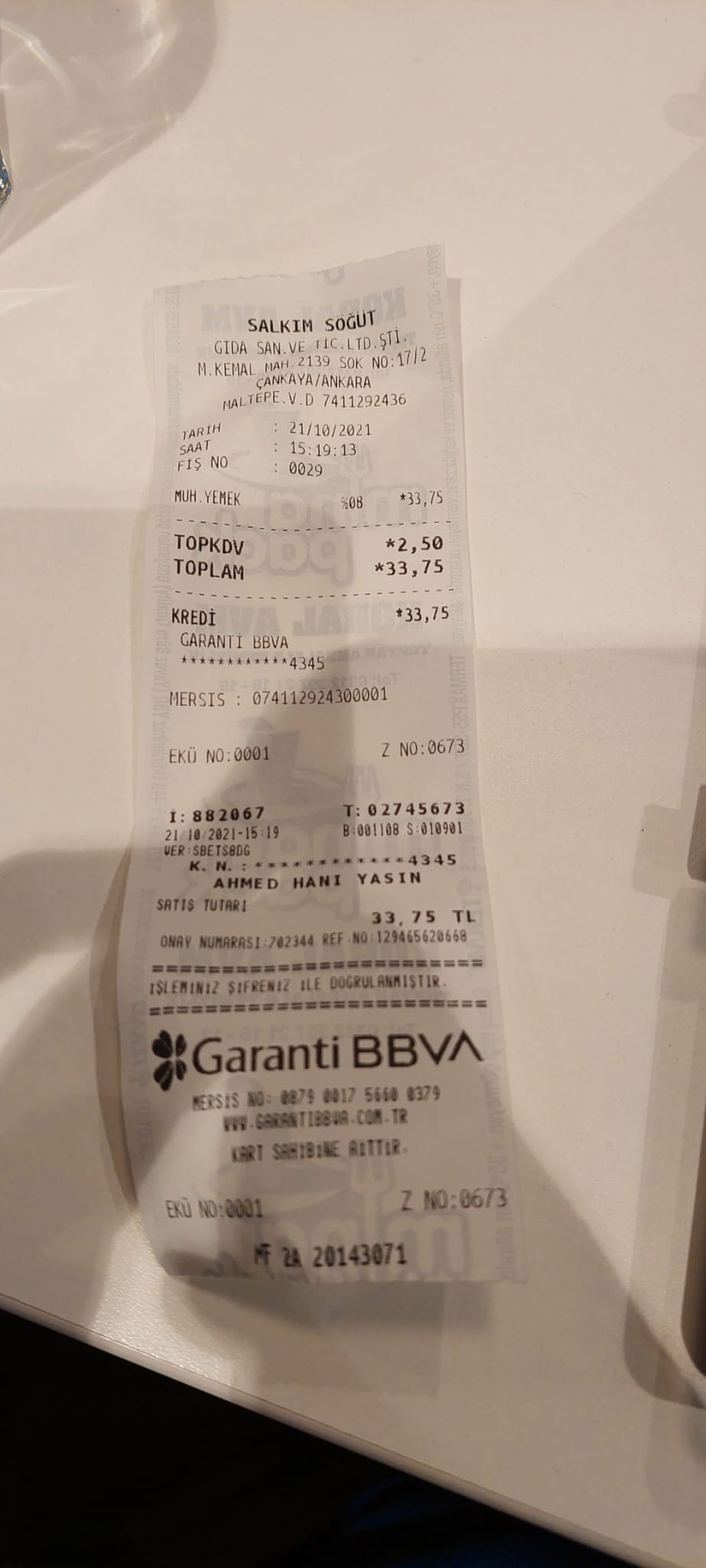date: (282, 416, 377, 441)
price: (384, 553, 447, 580)
workplace: (194, 303, 434, 393)
